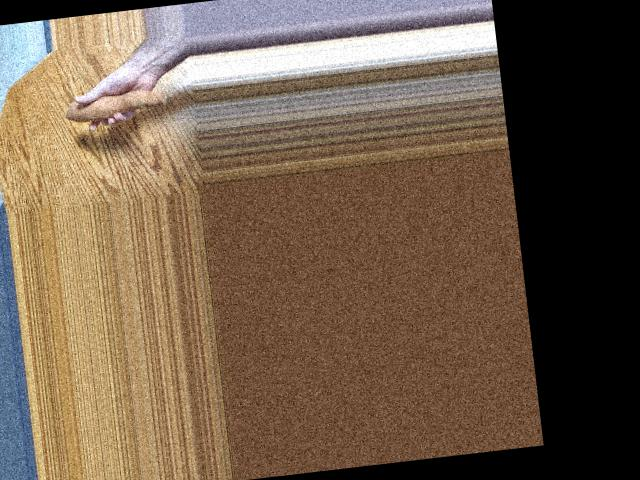sweet_potato: (54, 75, 172, 128)
